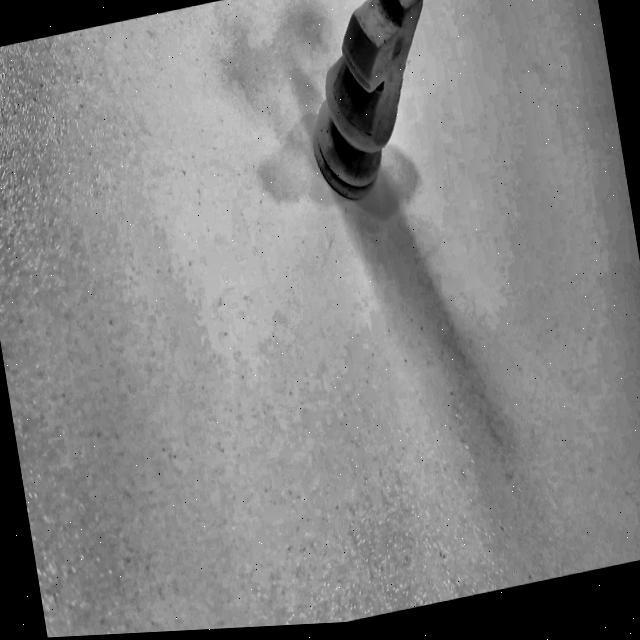white-knight: (311, 0, 422, 202)
